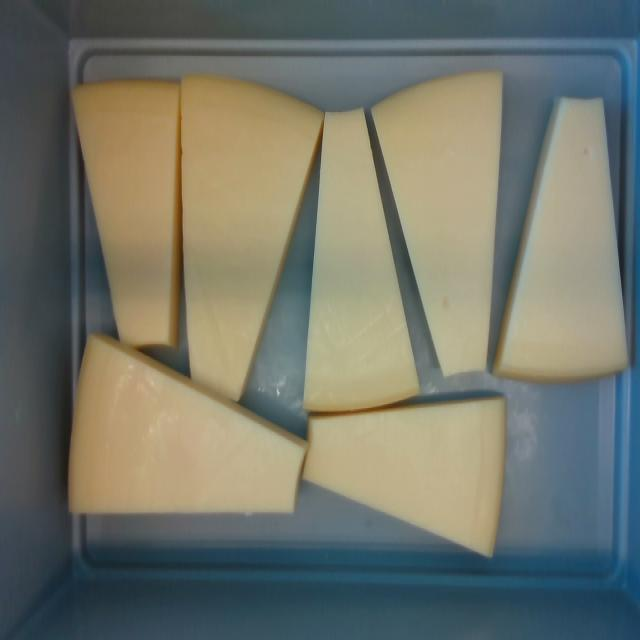cheese: (180, 80, 323, 402), (69, 339, 305, 513), (372, 73, 501, 378), (497, 98, 633, 376), (304, 109, 421, 409), (303, 392, 505, 558), (72, 83, 177, 346)
